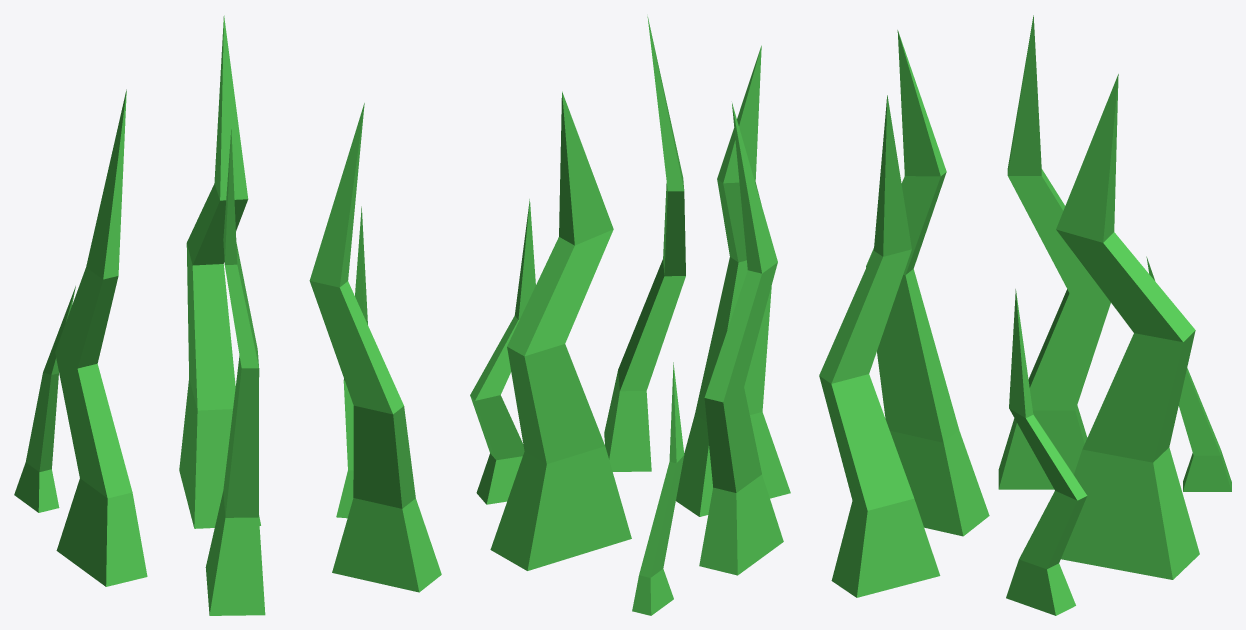
File: Grass3.glb
3 renders of one model, left to right at view 1: azimuth 30°, elevation 25°; view 2: azimuth 150°, elevation 25°; view 3: azimuth 270°, elevation 25°, orthographic. The views are drawn at different scales.
Parts seen in each view (by area): view 1: Grass3; view 2: Grass3; view 3: Grass3.
Boxes of the visible parts, x1,y1,x2,y2 form: Grass3: (14, 15, 441, 615); Grass3: (470, 16, 790, 615); Grass3: (819, 15, 1231, 615).
Size of the model in its own units: 0.2128 by 0.3274 by 0.2537.
